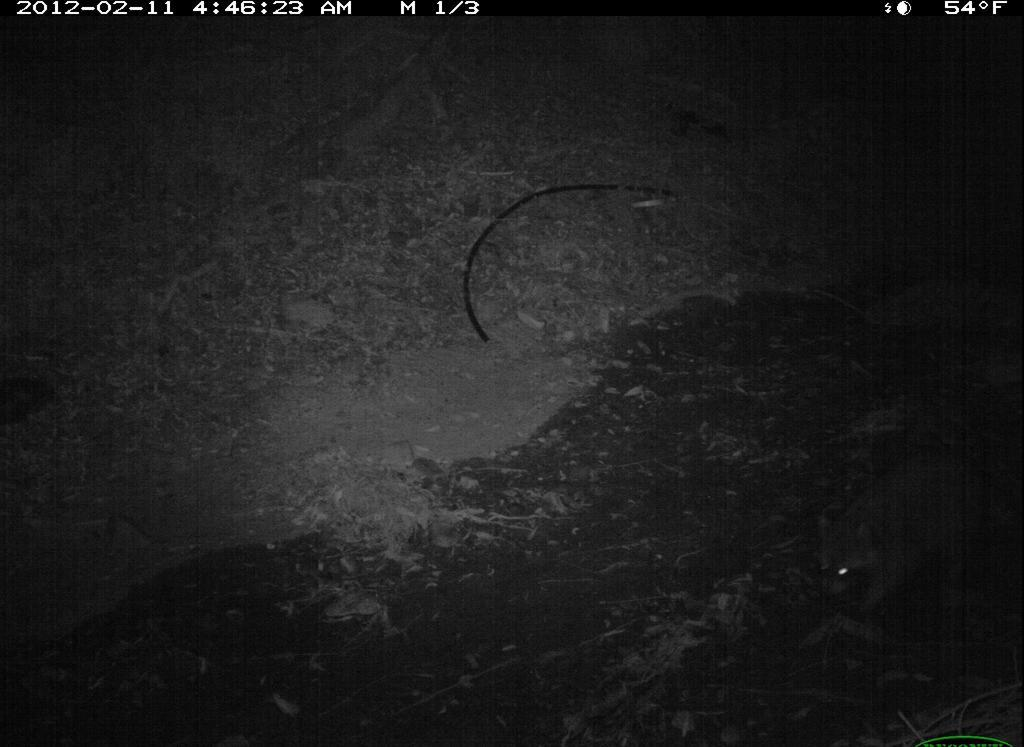raccoon: (809, 441, 1010, 623)
